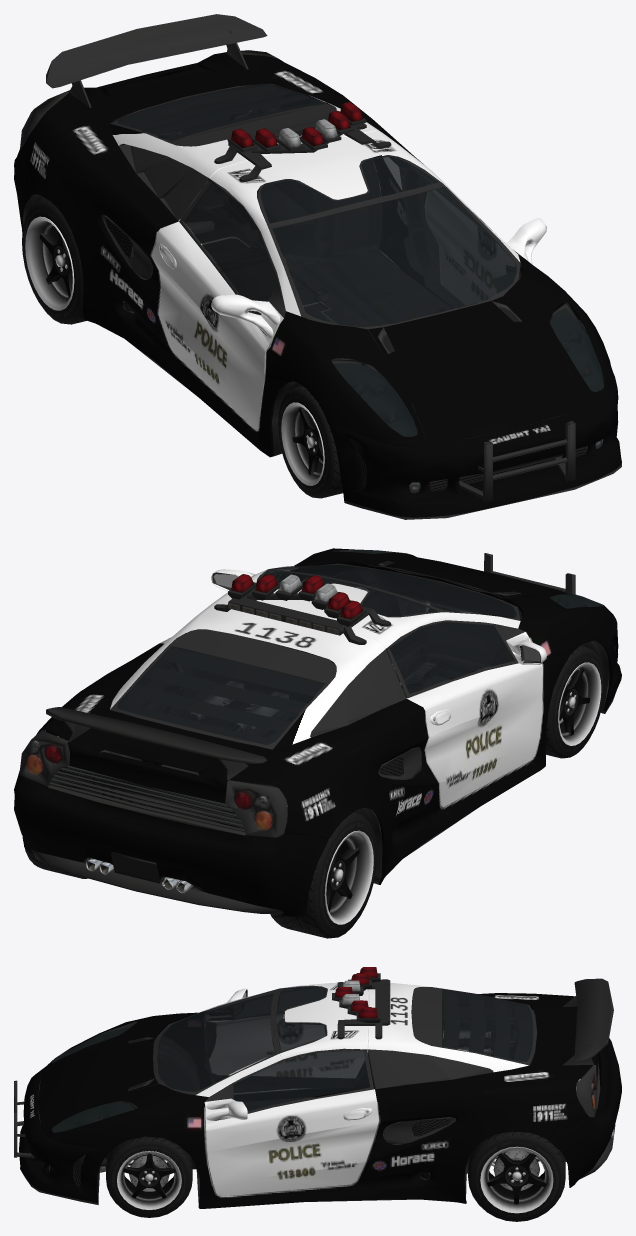
File: interceptor.glb
The picture shows the model from 3 angles, top to bottom: view 1: azimuth 30°, elevation 25°; view 2: azimuth 150°, elevation 25°; view 3: azimuth 270°, elevation 25°; orthographic projection. The views are drawn at different scales.
Visible parts, largest first — view 1: body, wheel_rr, wheel_fr; view 2: body, wheel_rr, wheel_fr; view 3: body, wheel_rl, wheel_fl.
Boxes of the visible parts, left/top/right/bottom form: body: left=14, top=14, right=621, bottom=519; wheel_rr: left=22, top=198, right=86, bottom=324; wheel_fr: left=278, top=385, right=343, bottom=498; body: left=14, top=548, right=621, bottom=916; wheel_rr: left=270, top=812, right=376, bottom=938; wheel_fr: left=546, top=645, right=604, bottom=758; body: left=14, top=967, right=621, bottom=1208; wheel_rl: left=468, top=1132, right=565, bottom=1221; wheel_fl: left=106, top=1136, right=192, bottom=1217.
Size of the model in its own units: 2.19 by 1.5 by 4.59.
Materials: 5 (5 with a texture image).
